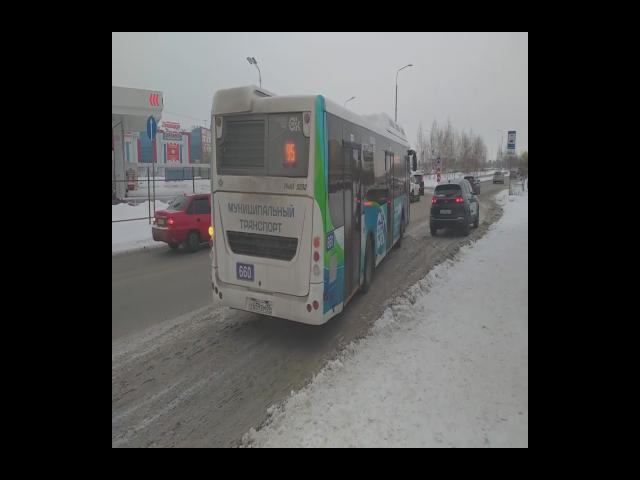bus: (209, 92, 418, 328)
car: (151, 194, 211, 249), (431, 178, 483, 238), (486, 168, 508, 188), (406, 174, 421, 202)
